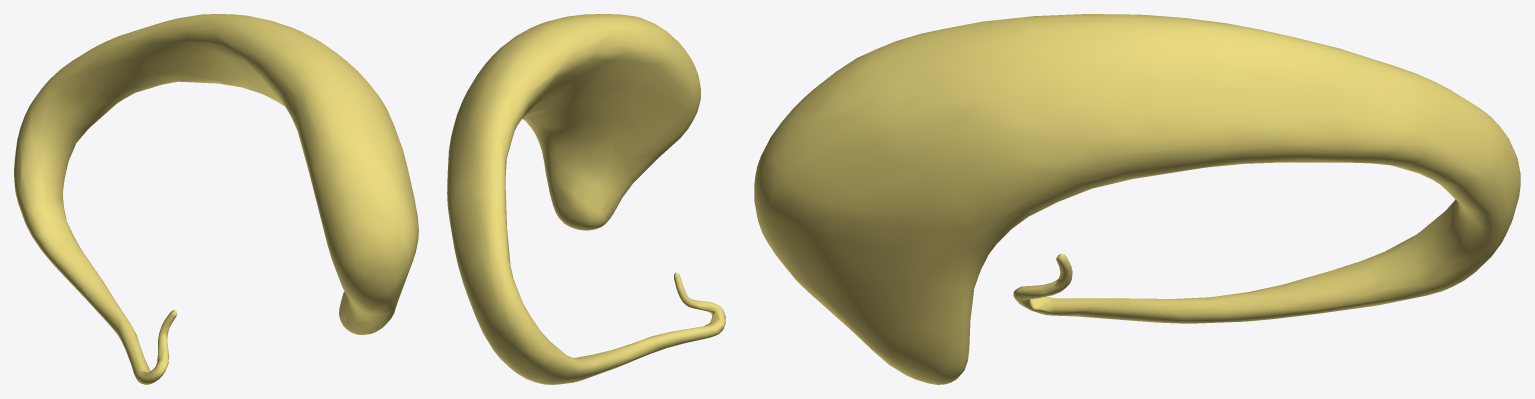
File: caudate-nucleus-r.glb
3 views of the same model, side by side, from view 1: azimuth 30°, elevation 25°; view 2: azimuth 150°, elevation 25°; view 3: azimuth 270°, elevation 25° (orthographic). The views are drawn at different scales.
Parts seen in each view (by area): view 1: Caudate nucleus.r; view 2: Caudate nucleus.r; view 3: Caudate nucleus.r.
Boxes of the visible parts, x1=… form: Caudate nucleus.r: x1=14, y1=14, x2=418, y2=384; Caudate nucleus.r: x1=447, y1=14, x2=725, y2=384; Caudate nucleus.r: x1=754, y1=14, x2=1520, y2=384.
Size of the model in its own units: 0.0309 by 0.036 by 0.0617.
